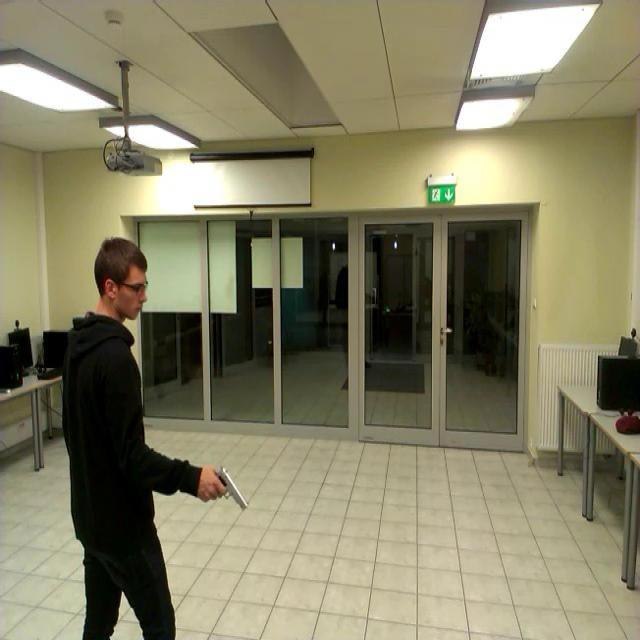weapon: (209, 467, 249, 513)
